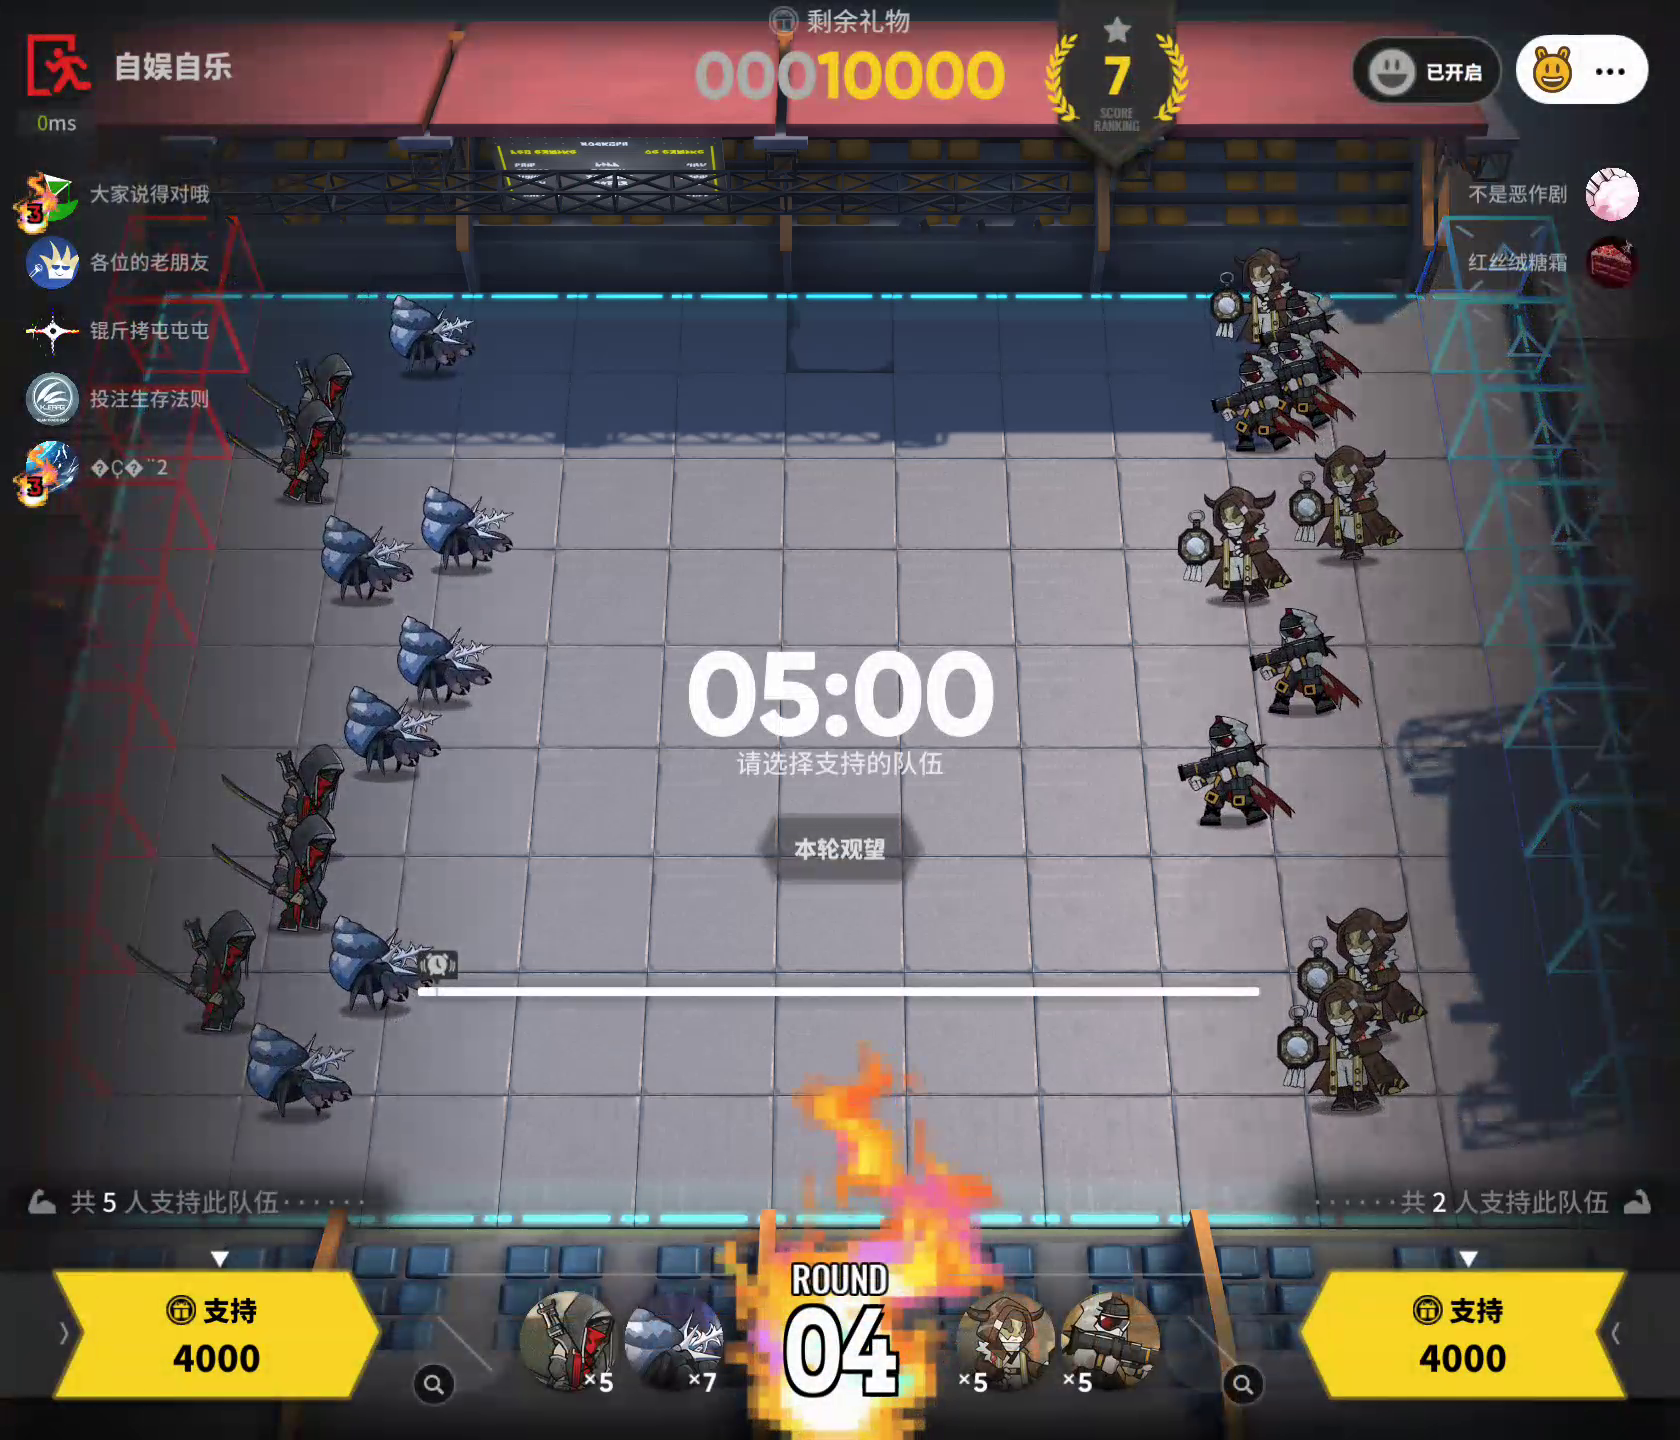“火苗与软钢”: (121, 904, 261, 1043), (210, 813, 349, 936), (220, 740, 344, 851), (241, 340, 360, 454), (231, 394, 340, 509), (517, 1286, 624, 1399)
小寄居蟹: (246, 1011, 361, 1119), (324, 909, 437, 1017), (621, 1284, 729, 1391), (344, 680, 451, 784), (407, 479, 521, 574), (391, 613, 496, 710), (319, 511, 421, 604), (390, 289, 484, 381)
榴弹佣兵: (1246, 584, 1377, 716), (1174, 696, 1294, 830), (1209, 351, 1317, 456), (1059, 1289, 1163, 1391), (1251, 290, 1361, 383), (1267, 329, 1354, 430)
镜子机关枪: (1274, 971, 1409, 1119), (1300, 899, 1427, 1037), (1171, 481, 1303, 603), (1290, 444, 1414, 566), (1209, 243, 1317, 356), (947, 1284, 1060, 1387)
